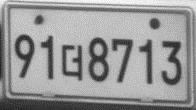1: (38, 35, 55, 81), (138, 39, 154, 85)
3: (160, 40, 182, 86)
7: (110, 38, 133, 83)
8: (88, 37, 108, 81)
9: (14, 34, 35, 79)
더: (60, 44, 82, 81)
